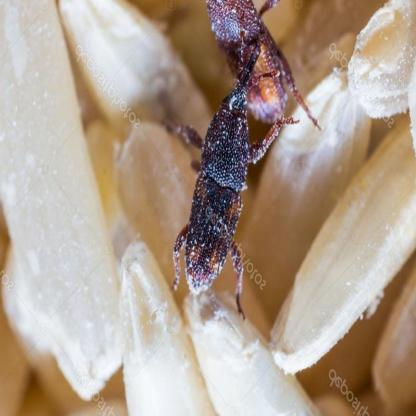rice-bug: (170, 0, 322, 317)
